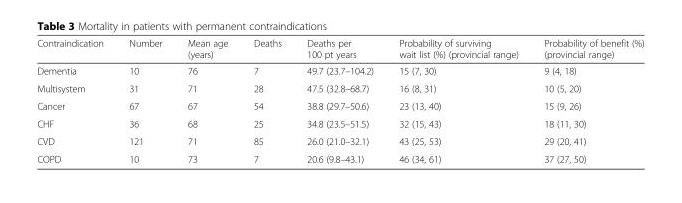table: (36, 36, 643, 164)
table column: (385, 36, 530, 164), (530, 36, 643, 164), (293, 36, 385, 164), (36, 36, 115, 164), (174, 36, 240, 164), (115, 36, 174, 164), (240, 36, 293, 164)
table column header: (36, 36, 643, 62)
table row: (36, 36, 643, 62), (36, 96, 643, 114), (36, 114, 643, 132), (36, 62, 643, 79), (36, 79, 643, 96), (36, 132, 643, 149), (36, 149, 643, 164)
